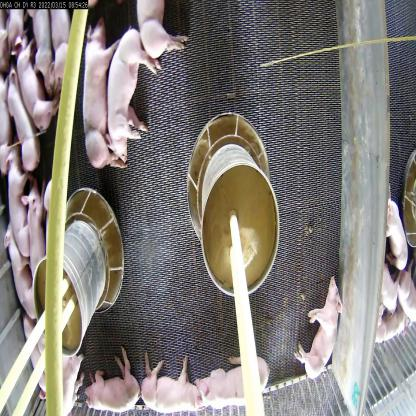Pig: (82, 19, 122, 170), (106, 28, 146, 162), (198, 352, 278, 415), (298, 280, 339, 386), (122, 0, 192, 62), (0, 56, 33, 178), (86, 360, 155, 416), (17, 42, 57, 137), (140, 357, 203, 415), (9, 233, 34, 328), (52, 0, 77, 88), (4, 156, 24, 228), (21, 184, 38, 268)
